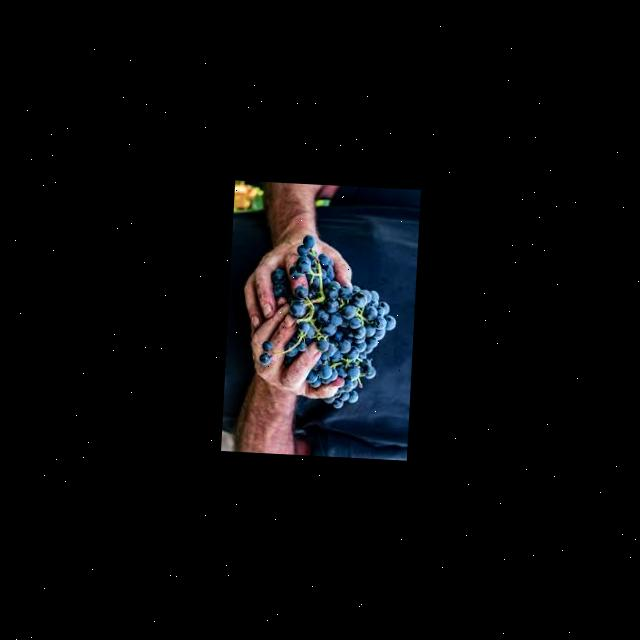grape: (258, 233, 401, 412)
